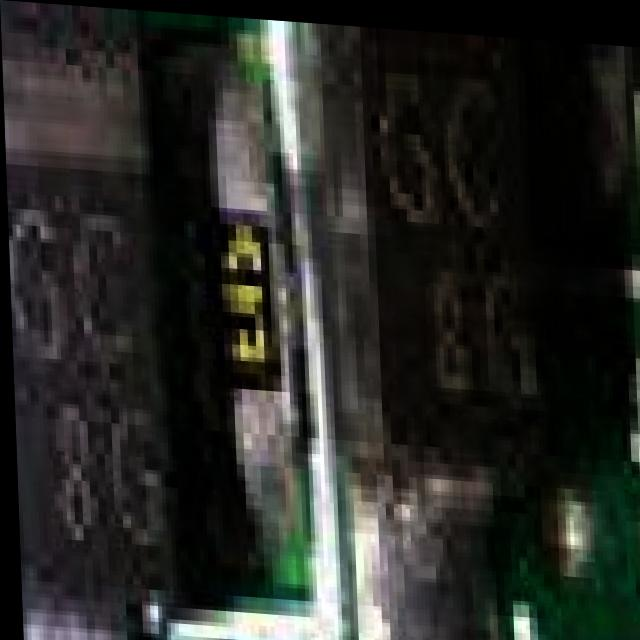diode: (344, 20, 572, 592), (0, 0, 159, 640)
resistor: (170, 90, 288, 492)
